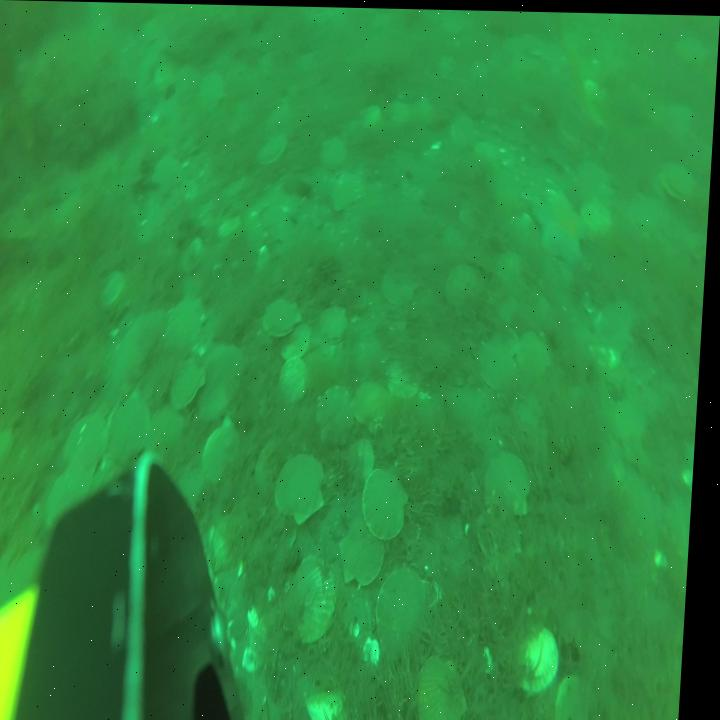scallop: (381, 561, 438, 663), (289, 550, 348, 646), (418, 648, 480, 720), (366, 456, 416, 542), (279, 449, 335, 524), (486, 445, 539, 522), (522, 613, 571, 695), (342, 515, 394, 585), (113, 392, 157, 471), (204, 418, 249, 492), (49, 467, 98, 533), (67, 411, 118, 471), (317, 381, 363, 447), (166, 293, 214, 353), (480, 326, 524, 391), (149, 400, 190, 462), (614, 391, 655, 452), (171, 359, 214, 417), (446, 256, 488, 310), (263, 293, 310, 341), (517, 325, 559, 378), (661, 152, 703, 204), (356, 377, 397, 429), (258, 434, 292, 495), (389, 350, 429, 401), (282, 351, 316, 408), (382, 260, 422, 307), (515, 385, 549, 433), (152, 150, 188, 195), (282, 316, 318, 361), (581, 194, 619, 236), (334, 168, 370, 212), (448, 105, 479, 154), (562, 669, 591, 720), (198, 67, 229, 114), (255, 130, 291, 169), (355, 433, 383, 483), (380, 143, 411, 188), (321, 302, 354, 343), (101, 268, 132, 310), (319, 132, 353, 170), (181, 230, 209, 276), (388, 95, 415, 126), (360, 100, 384, 130), (415, 95, 437, 125)
starfish: (530, 182, 589, 263)
